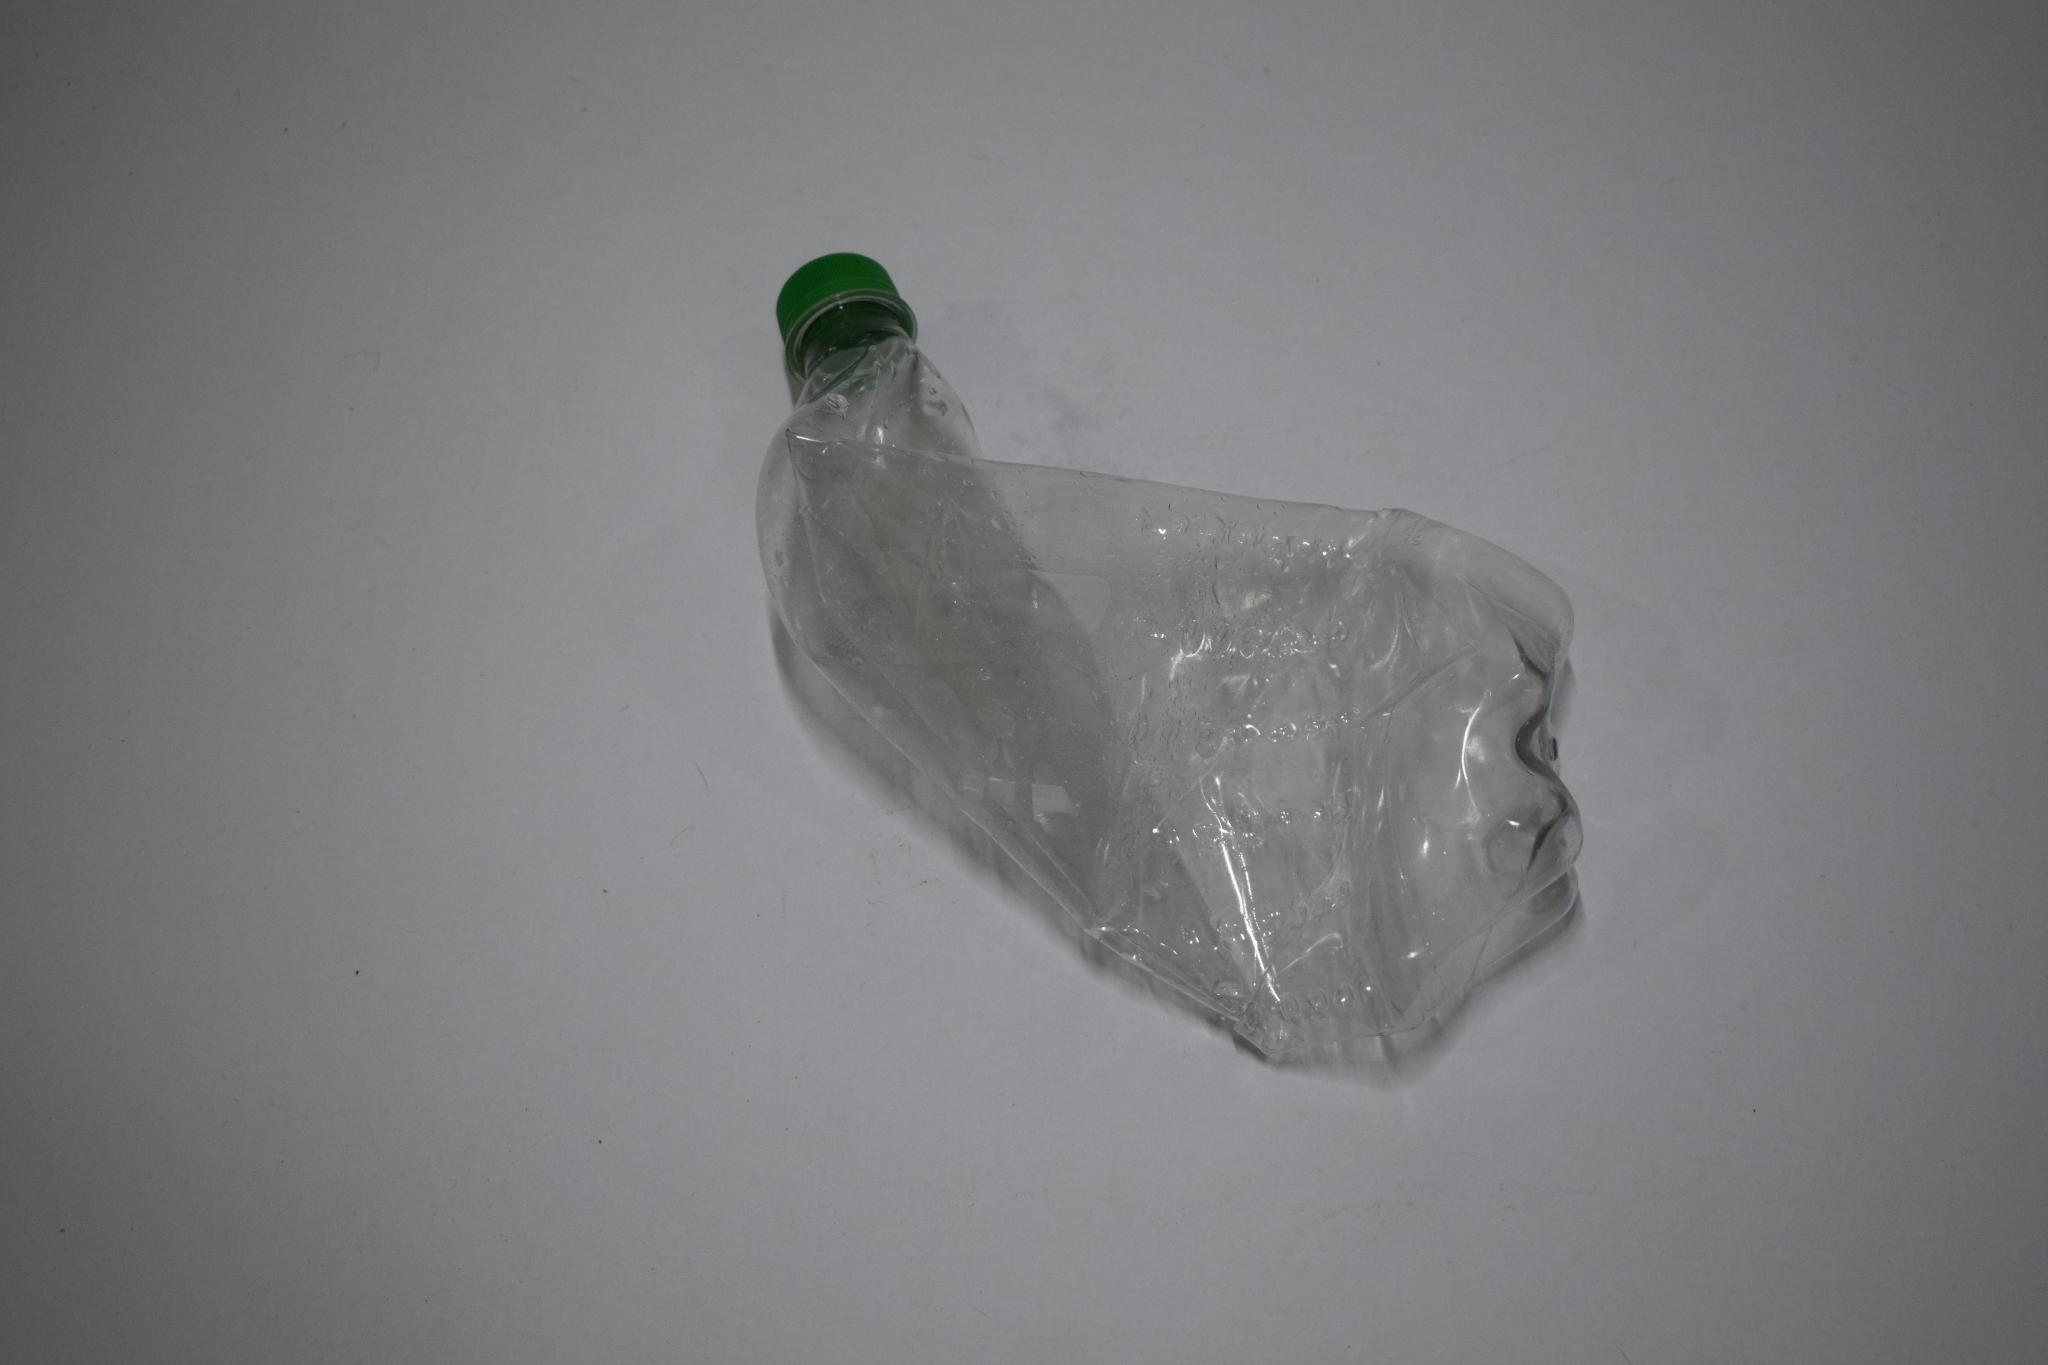bottle: (713, 232, 1644, 1126)
